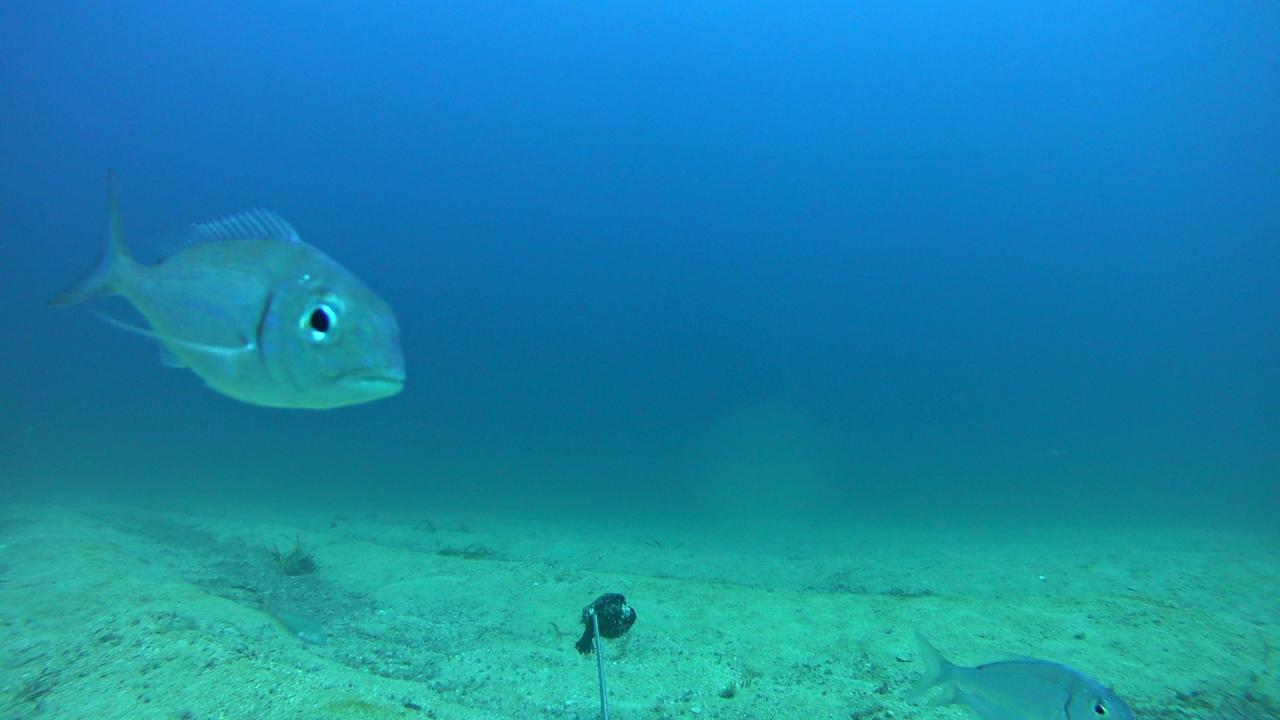pagellus: (49, 170, 405, 410)
